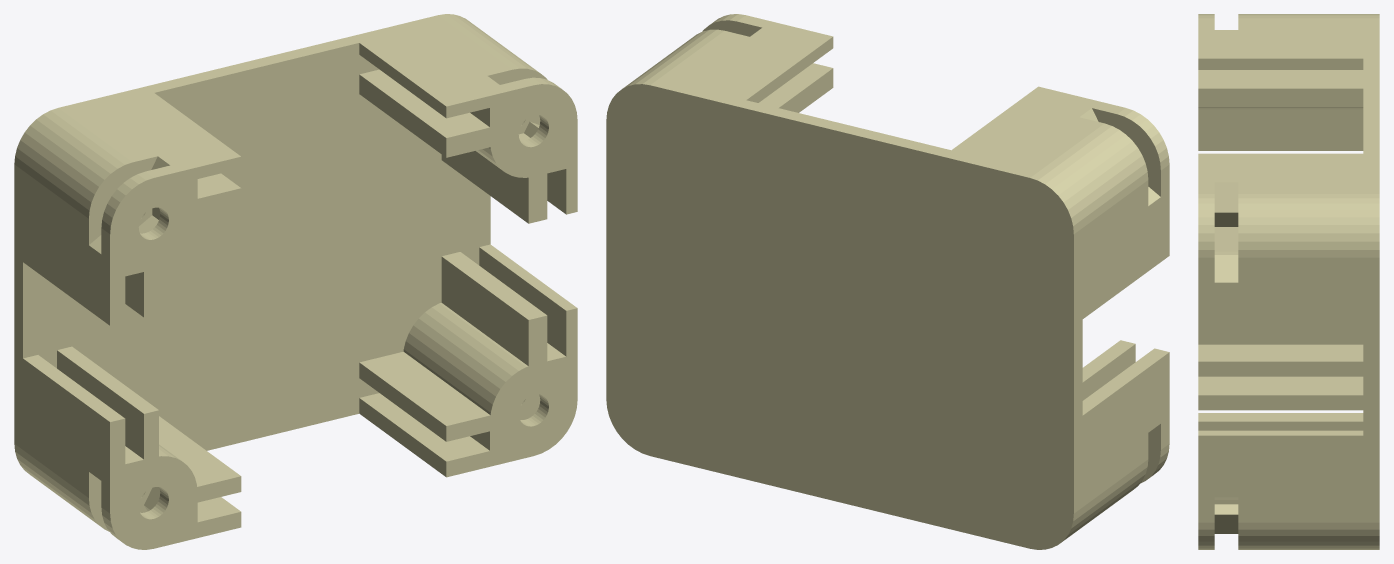
The model's file is projectbox.glb.
3 views of the same model, side by side, from view 1: azimuth 30°, elevation 25°; view 2: azimuth 150°, elevation 25°; view 3: azimuth 270°, elevation 25° (orthographic). The views are drawn at different scales.
Visible parts, largest first — view 1: geometry_0; view 2: geometry_0; view 3: geometry_0.
Boxes of the visible parts, bbox=[...] form: geometry_0: bbox=[14, 14, 577, 549]; geometry_0: bbox=[606, 14, 1169, 549]; geometry_0: bbox=[1198, 14, 1379, 549].
Size of the model in its own units: 62 by 47 by 22.
